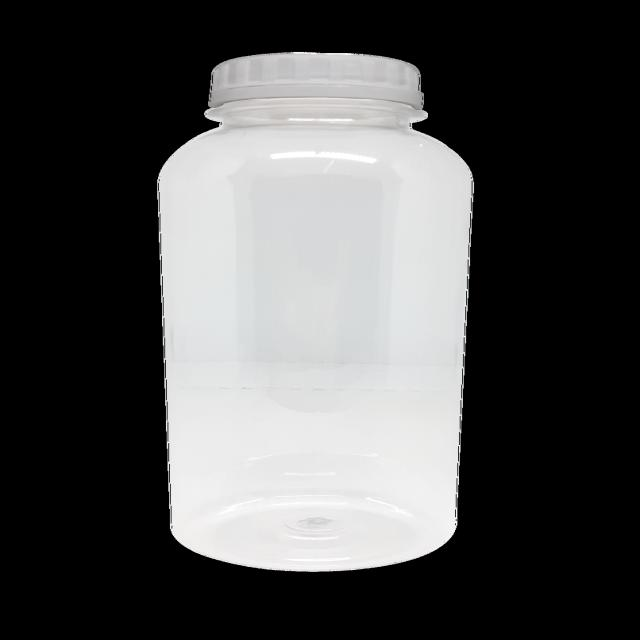bottle: (158, 52, 472, 571)
